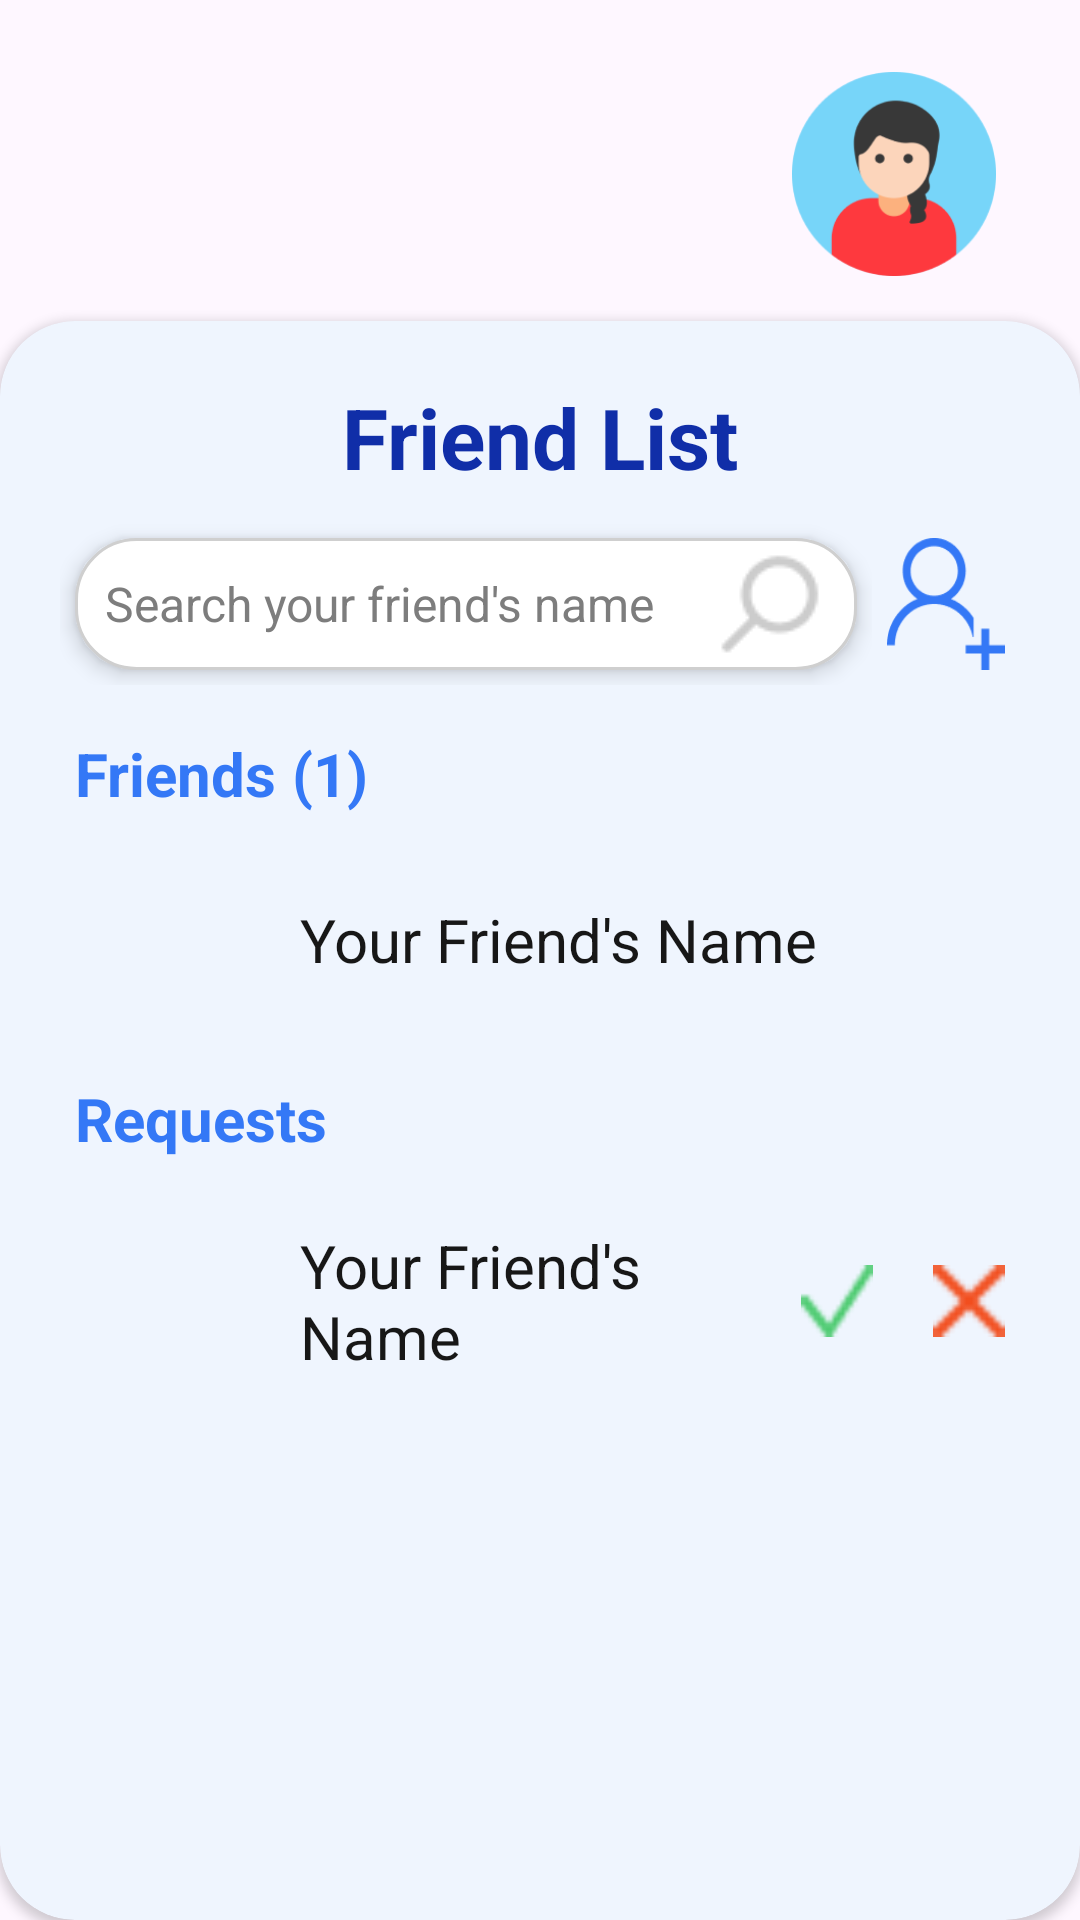

Named icons in this screenshot (1080w x 1920h) and their bounding boxes, [x1, y1, x2, y2]:
addfriend: [887, 538, 1005, 670]
check: [801, 1265, 873, 1337]
cross: [933, 1265, 1005, 1337]
userprofile: [792, 72, 996, 276]
